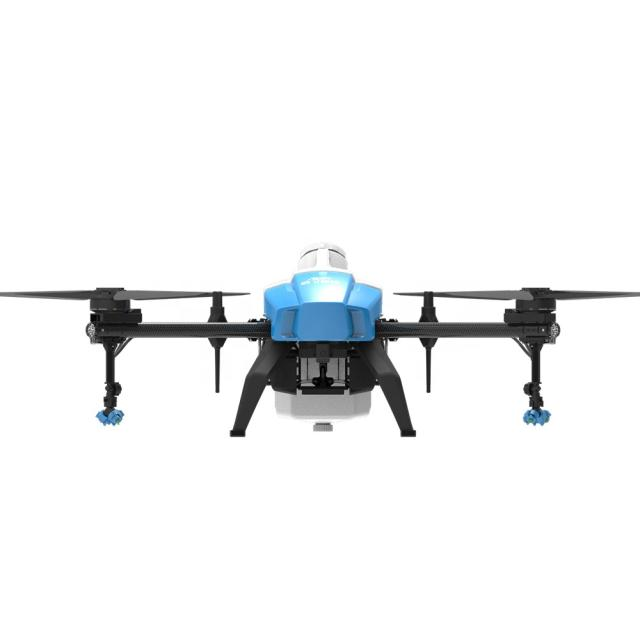drone: (40, 223, 601, 461)
